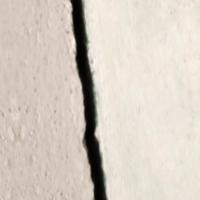crack: (48, 0, 124, 199)
